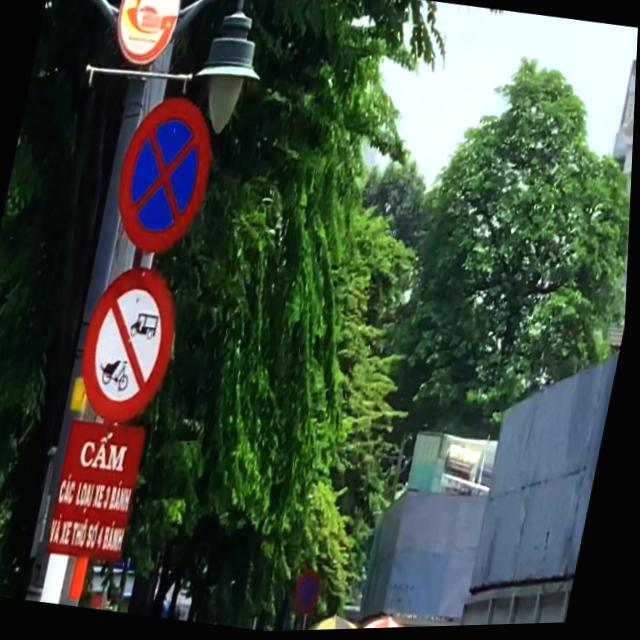Cam dung xe va do xe: (103, 87, 227, 266)
